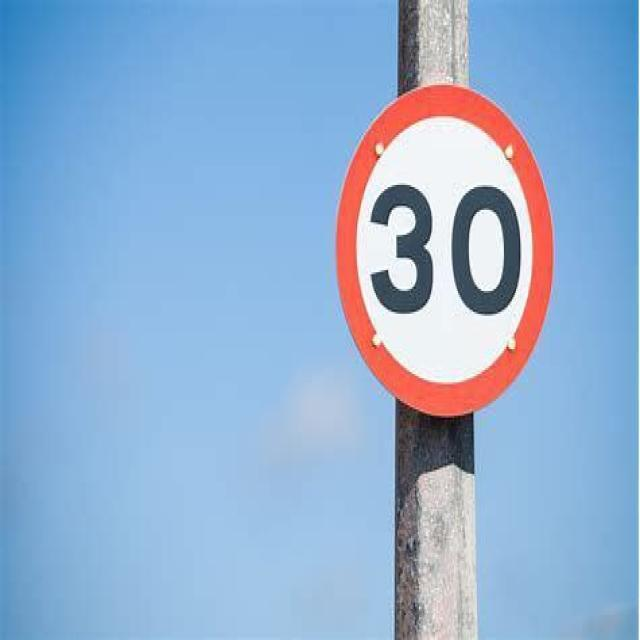speed limit 30: (327, 81, 563, 420)
